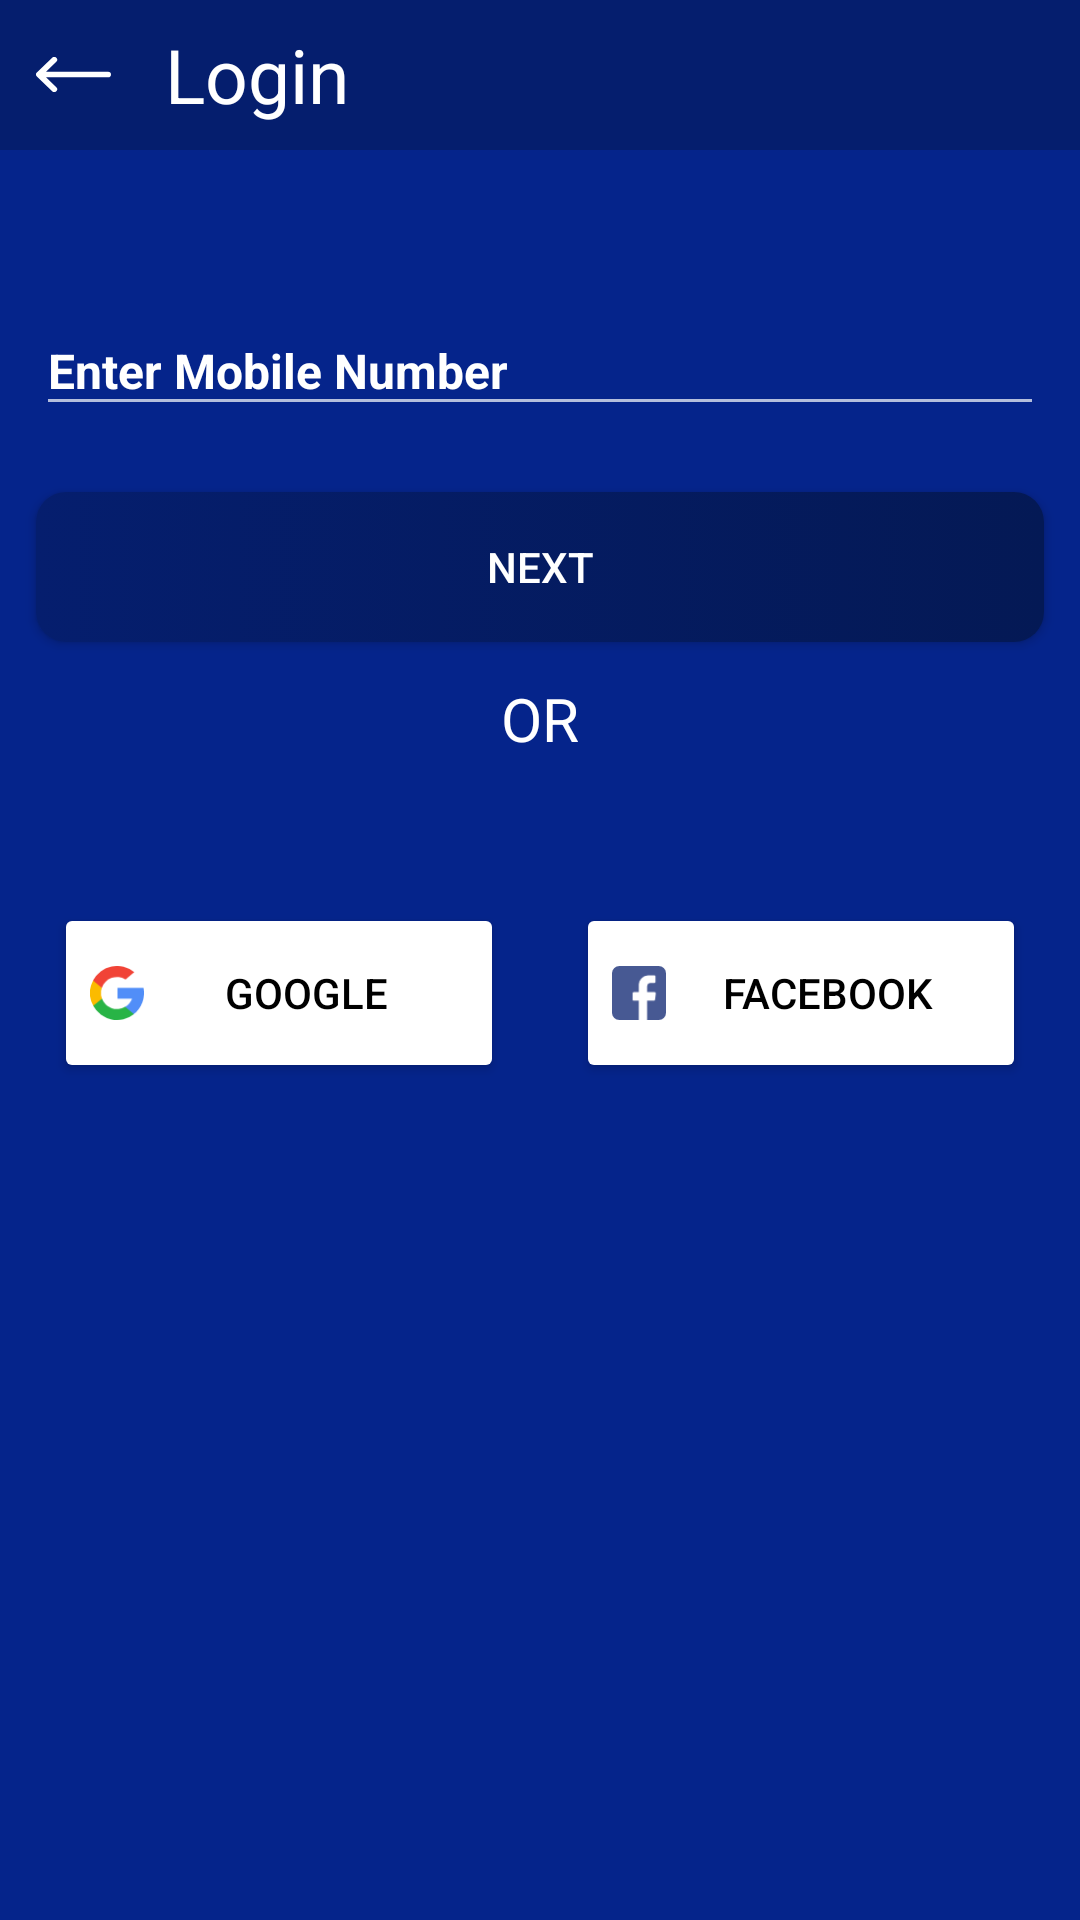

Icon bounding boxes for this 1080 × 1920 phone screenshot, format bbox=[x1, y1, x2, y2]:
left arrow: bbox=[36, 57, 111, 92]
